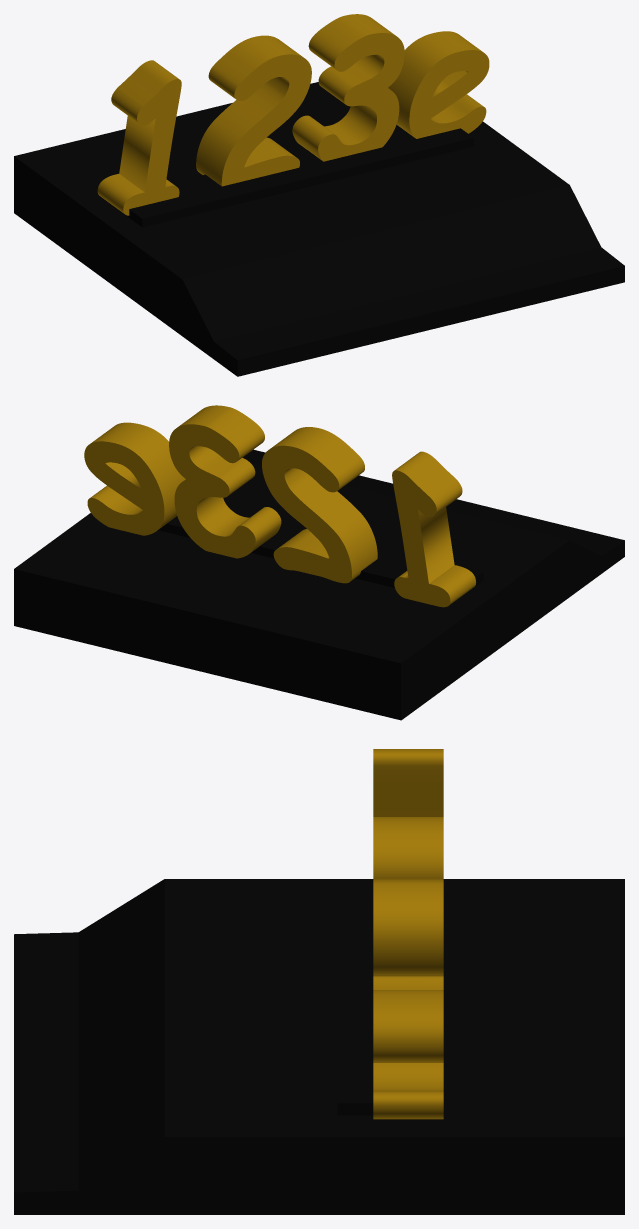
The picture shows the model from 3 angles, top to bottom: view 1: azimuth 30°, elevation 25°; view 2: azimuth 150°, elevation 25°; view 3: azimuth 270°, elevation 25°; orthographic projection. The views are drawn at different scales.
Parts seen in each view (by area): view 1: base.025, Text.002, Cube.003; view 2: base.025, Text.002, Cube.003; view 3: base.025, Text.002, Cube.003.
Part boxes in pixels (x1,y1,x2,y2): base.025: (14, 82, 624, 376); Text.002: (97, 14, 489, 215); Cube.003: (113, 127, 473, 227); base.025: (14, 449, 624, 720); Text.002: (84, 405, 476, 607); Cube.003: (158, 511, 483, 601); base.025: (14, 879, 624, 1214); Text.002: (373, 749, 443, 1119); Cube.003: (337, 882, 373, 1115).
Bounding box in the file's own units: 79.88 × 36.31 × 79.88.
